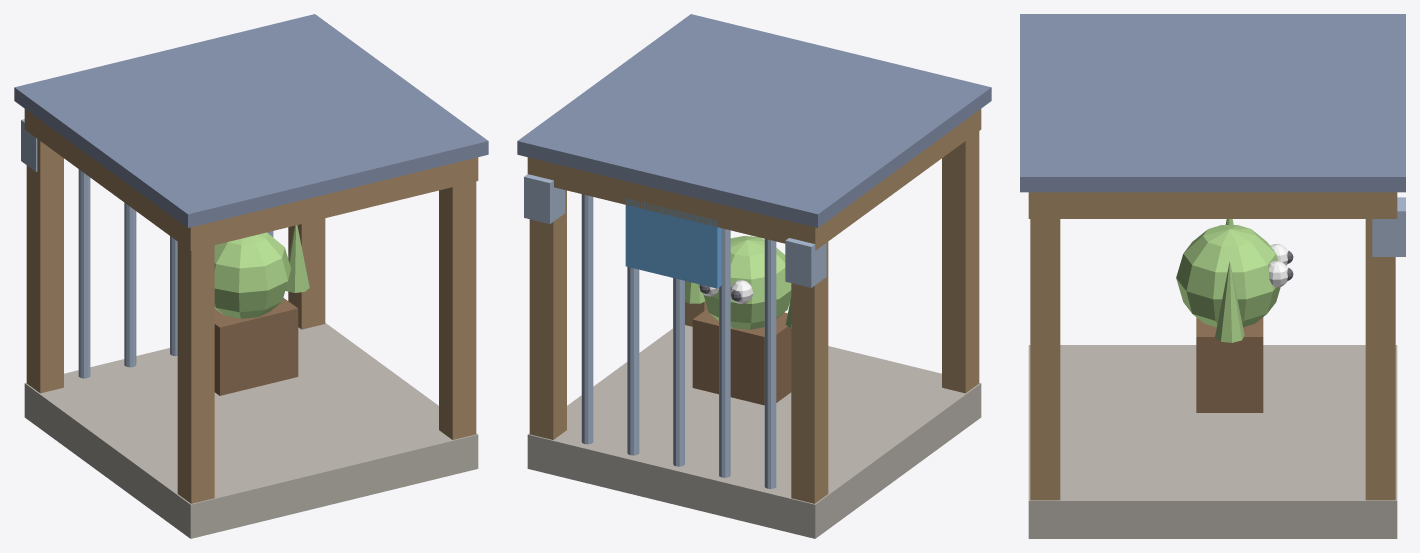
The model's file is goblin_cage.glb.
The picture shows the model from 3 angles, left to right: view 1: azimuth 30°, elevation 25°; view 2: azimuth 150°, elevation 25°; view 3: azimuth 270°, elevation 25°; orthographic projection. The views are drawn at different scales.
Parts seen in each view (by area): view 1: goblin_cage; view 2: goblin_cage; view 3: goblin_cage.
Part boxes in pixels (bbox=[...]): goblin_cage: bbox=[14, 14, 488, 538]; goblin_cage: bbox=[517, 14, 991, 538]; goblin_cage: bbox=[1020, 14, 1405, 538].
Bounding box in the file's own units: 2.3 × 2.4 × 2.3.
